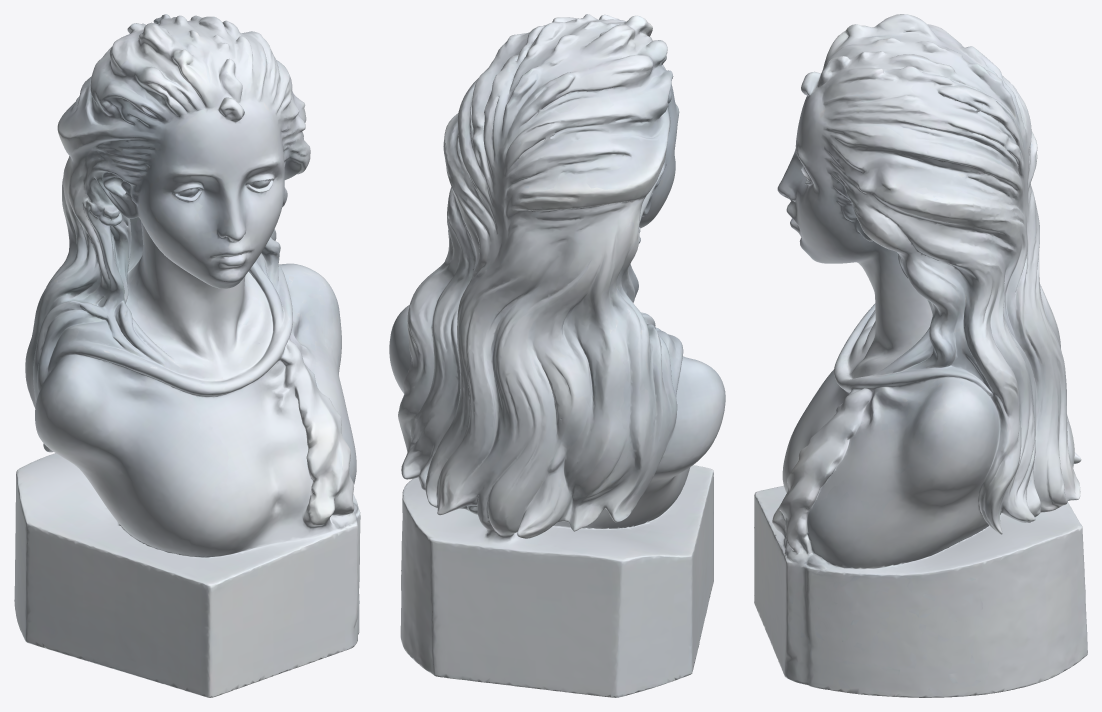
File: apollo_flag.glb
The picture shows the model from 3 angles, left to right: view 1: azimuth 30°, elevation 25°; view 2: azimuth 150°, elevation 25°; view 3: azimuth 270°, elevation 25°; orthographic projection. The views are drawn at different scales.
Parts seen in each view (by area): view 1: geometry_0; view 2: geometry_0; view 3: geometry_0.
Boxes of the visible parts, box(x1,y1,x2,y2) form: geometry_0: box(14, 14, 360, 697); geometry_0: box(389, 14, 725, 697); geometry_0: box(754, 14, 1087, 697).
Bounding box in the file's own units: 0.5315 × 1 × 0.5065.
1 material, 1 textured.
